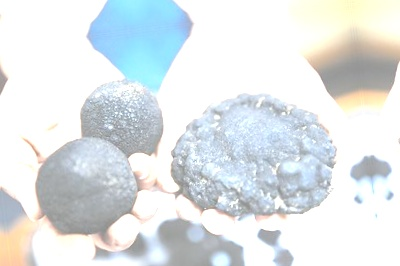halobolite: (159, 86, 350, 239), (33, 128, 142, 245), (75, 66, 169, 161)
